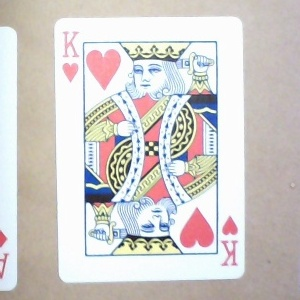card: (52, 16, 247, 284)
